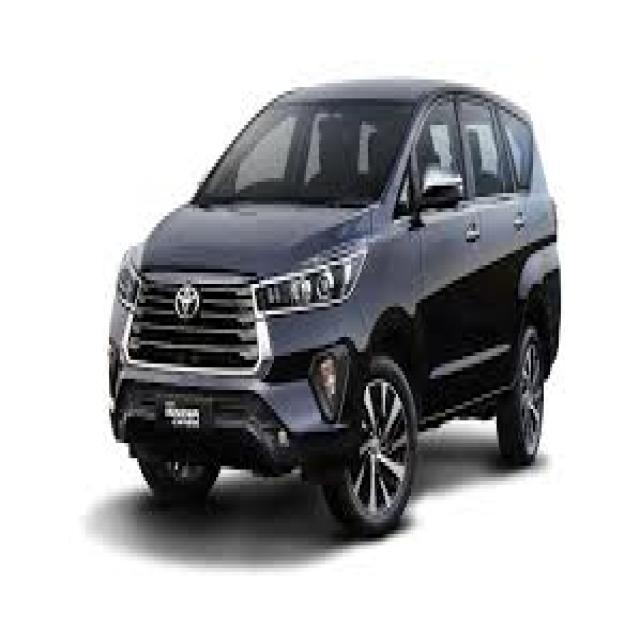light_vehicle: (108, 78, 560, 538)
